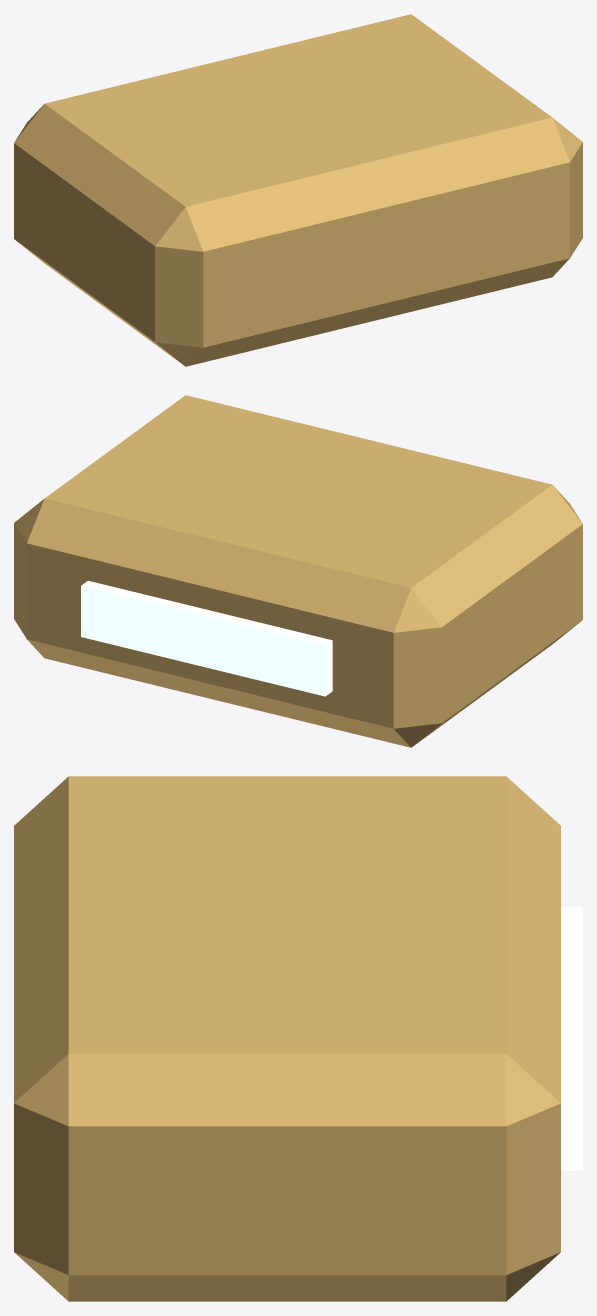
The model's file is CO_Top_Crest.fbx.
3 renders of one model, top to bottom at view 1: azimuth 30°, elevation 25°; view 2: azimuth 150°, elevation 25°; view 3: azimuth 270°, elevation 25°, orthographic. The views are drawn at different scales.
Parts seen in each view (by area): view 1: CO_Top_Crest; view 2: CO_Top_Crest; view 3: CO_Top_Crest.
Part boxes in pixels (<box>): CO_Top_Crest: <box>14,14,582,366</box>; CO_Top_Crest: <box>14,395,582,747</box>; CO_Top_Crest: <box>14,776,582,1301</box>.
Size of the model in its own units: 0.7 by 0.25 by 0.52.
